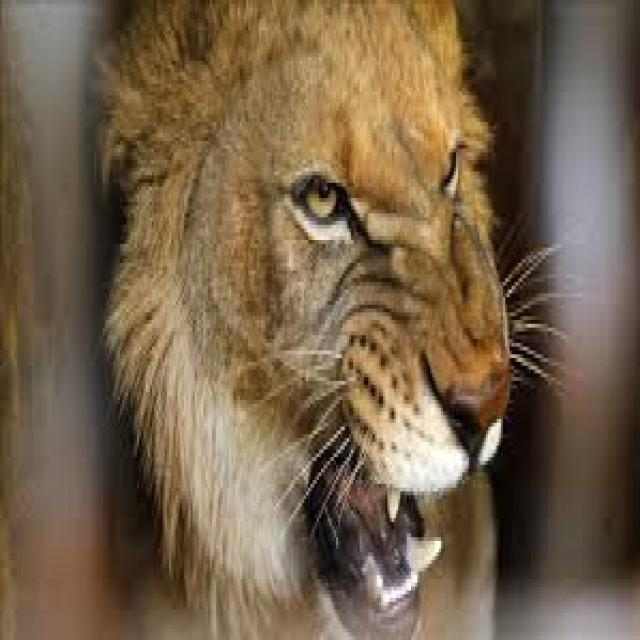Lion: (92, 0, 576, 636)
